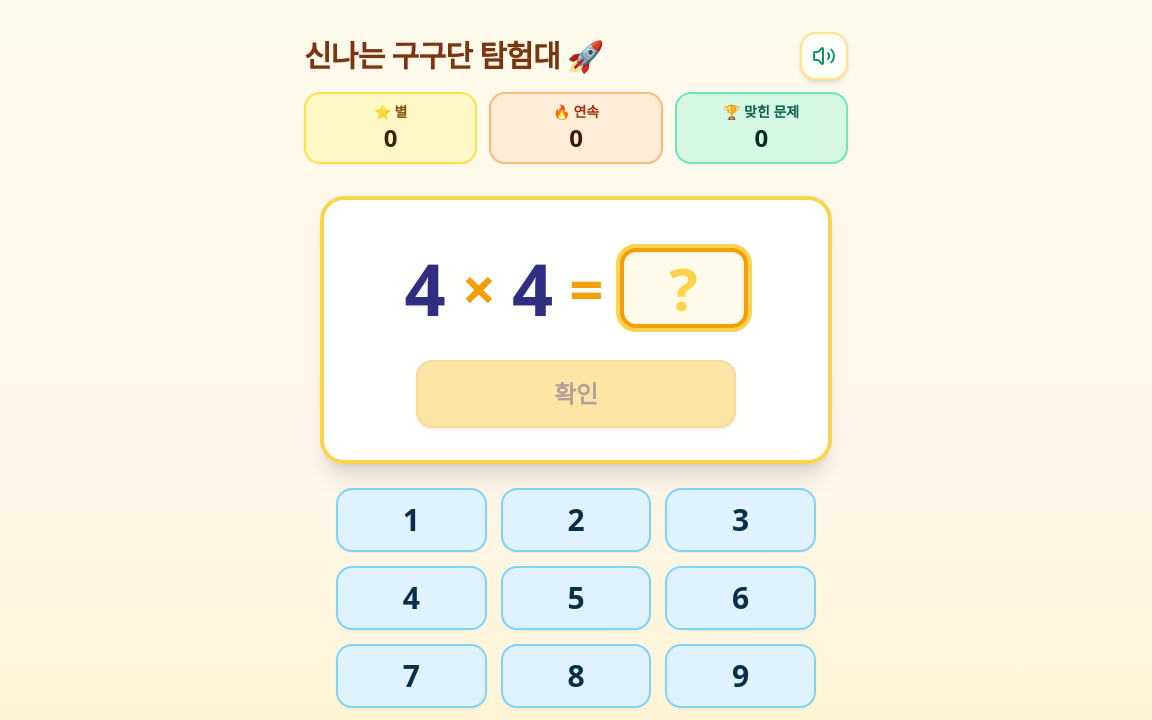
Scenario: App Integration › handles physical Enter key for submission and advancing next question
The image size is (1152, 720).
Type "16" into the field named "정답 입력". click: (684, 288)
box: 620,248 -> 748,328
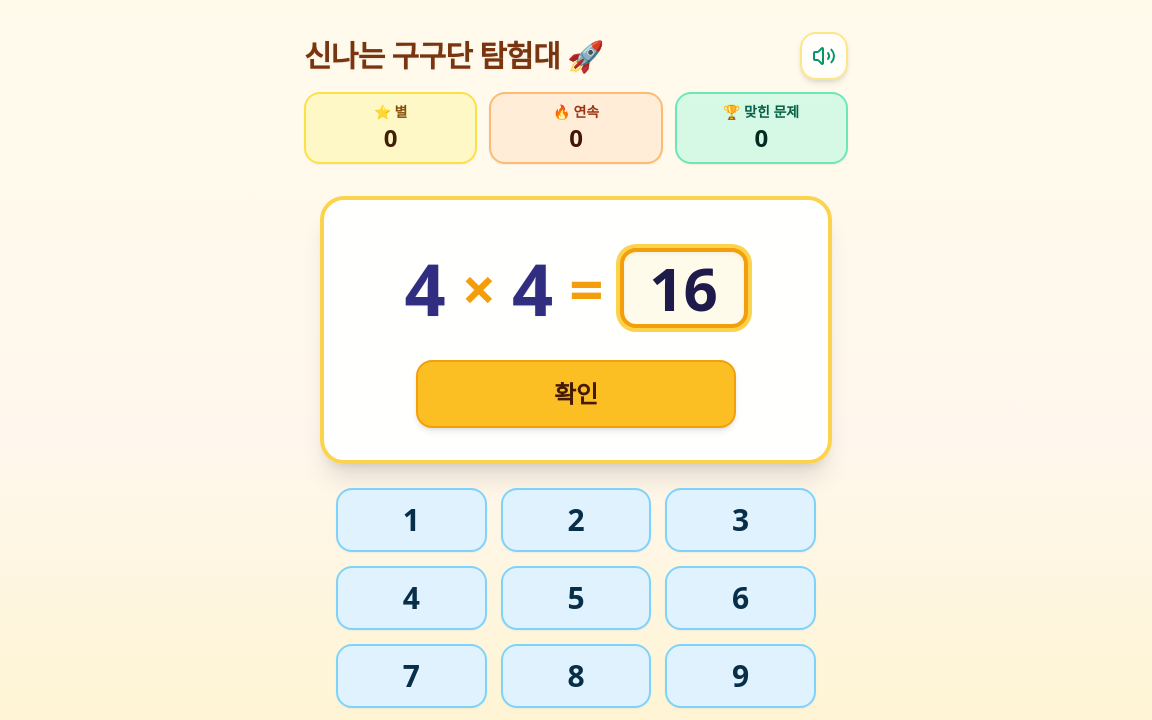
Press Enter in the field named "정답 입력", box 620,248 -> 748,328
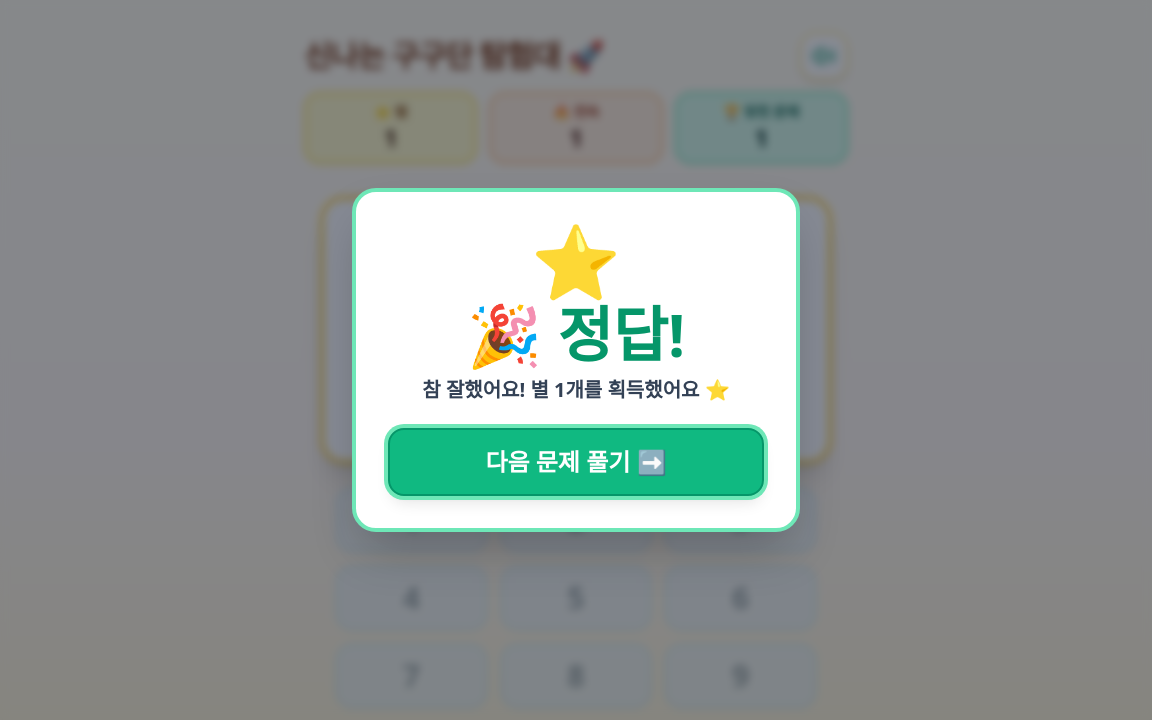
Result: the dialog is shown
Result: the heading "🎉 정답!" is shown at 467,293 -> 685,375
// Press Enter while overlay is open to advance
Press Enter
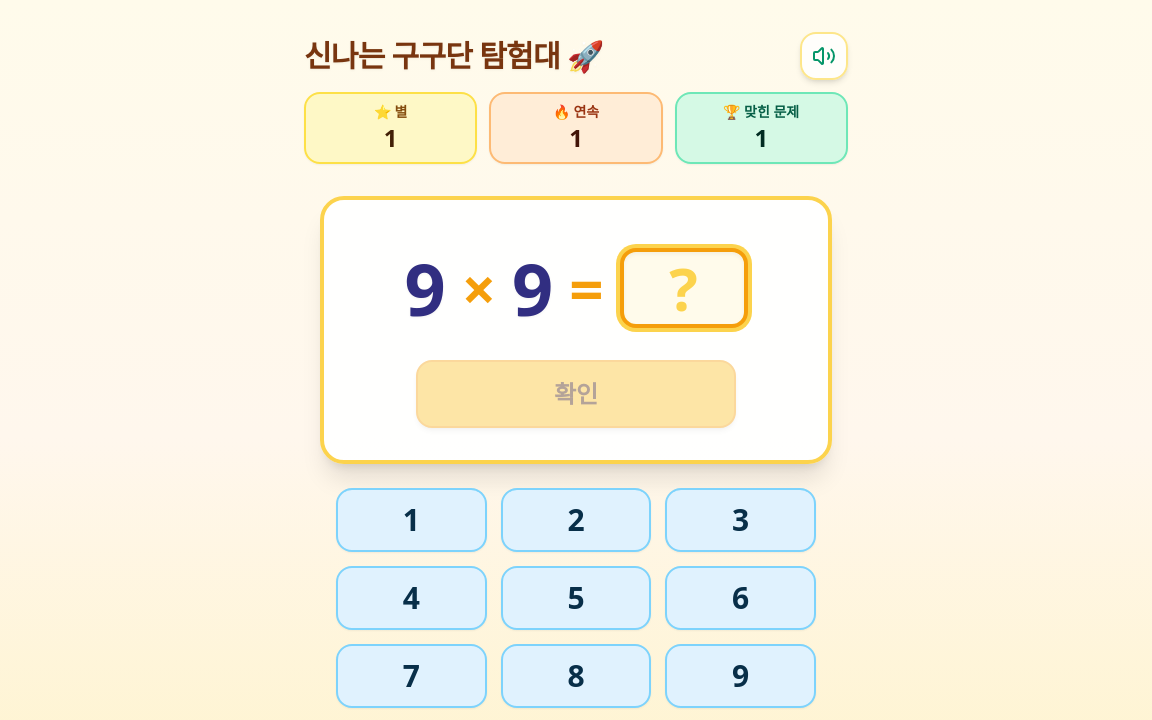
Result: the dialog is gone
